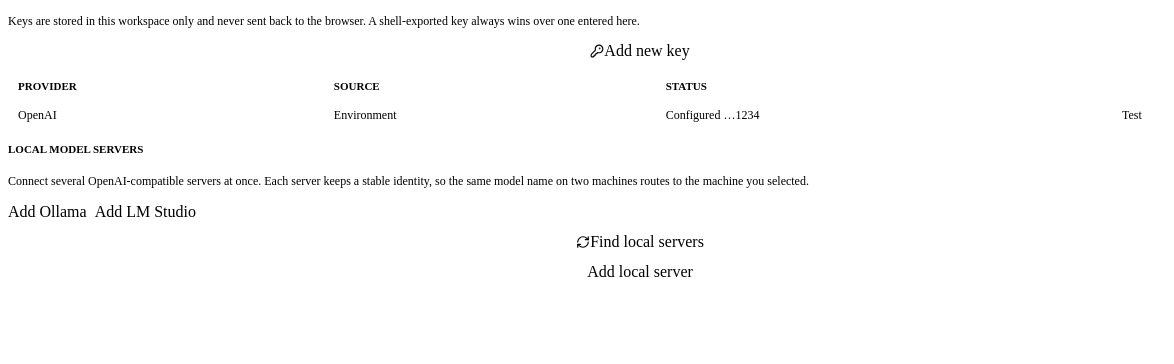
Test: workspace checks a stored key through its own endpoint with cancellation
Click the button with aria-label "Test OpenAI provider key" at (1132, 116), box 1122,108 -> 1142,123
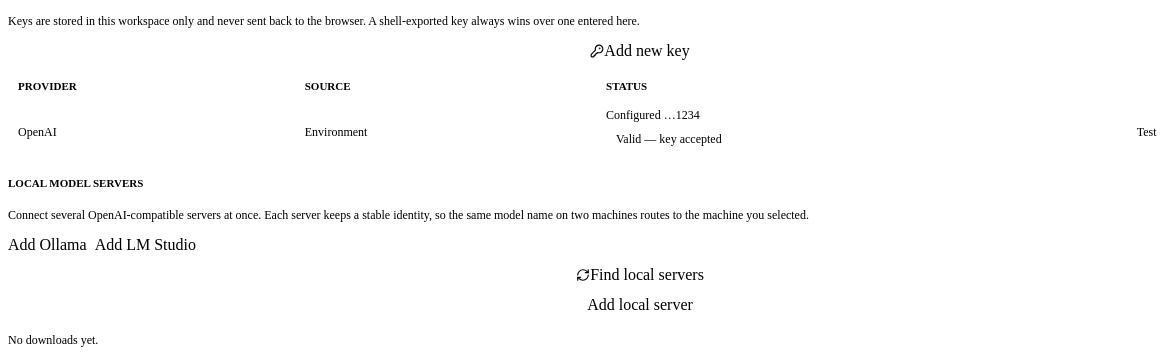
Result: the text "Valid — key accepted" is shown at 616,132 -> 722,146
